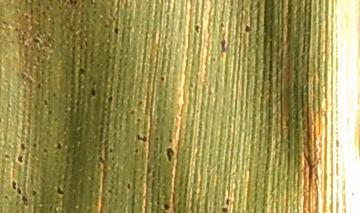tarspot: (217, 35, 233, 57), (163, 146, 179, 164), (132, 130, 150, 143), (109, 22, 122, 38), (96, 152, 109, 167), (54, 184, 68, 197), (125, 178, 135, 195), (14, 154, 26, 167), (75, 64, 87, 77), (9, 175, 18, 192), (242, 23, 254, 35), (191, 21, 202, 34), (217, 20, 230, 31), (159, 201, 173, 211), (107, 145, 117, 159), (17, 140, 28, 152), (29, 187, 41, 198), (104, 93, 115, 105), (223, 194, 234, 206), (218, 204, 232, 213), (88, 85, 98, 97), (41, 146, 51, 158), (66, 1, 80, 9), (53, 141, 63, 152), (143, 164, 154, 174), (105, 185, 114, 197), (157, 75, 168, 84), (41, 96, 50, 107), (14, 188, 22, 198), (30, 140, 38, 150), (132, 146, 142, 154), (133, 116, 144, 123)
